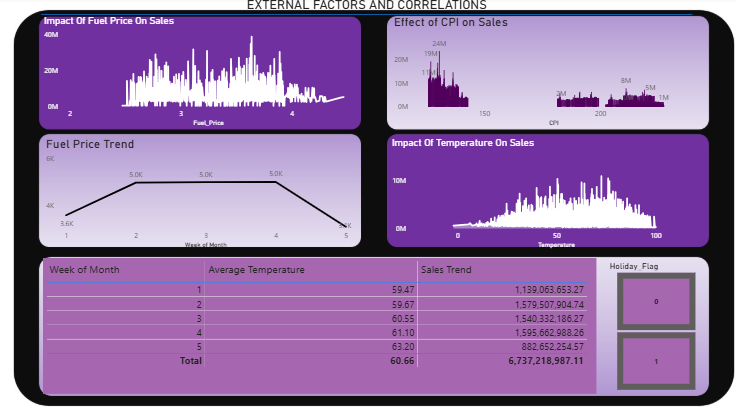

The dashboard page shown, as its layout file describes it:
{"tool":"powerbi","page":{"name":"Page 2","canvas":[1280,720],"ordinal":1},"visuals":[{"type":"shape","title":"EXTERNAL FACTORS AND CORRELATIONS","box":[76.6,0,1103.1,30.4],"z":0},{"type":"lineChart","title":"Impact Of Fuel Price On Sales","fields":{"Category":["Walmart_cleaned.Fuel_Price"],"Y":["Sum(Walmart_cleaned.Weekly_Sales)"]},"box":[76.6,30.4,533.5,193.7],"z":1000},{"type":"clusteredColumnChart","title":"Effect of CPI on Sales","fields":{"Y":["Sum(Walmart_cleaned.Weekly_Sales)"],"Category":["Walmart_cleaned.CPI"]},"box":[668,30.4,527.7,193.7],"z":2000},{"type":"lineChart","title":"Fuel Price Trend","fields":{"Category":["Walmart_cleaned.Week of Month"],"Y":["Sum(Walmart_cleaned.Fuel_Price)"]},"box":[79.5,237.1,527.7,193.7],"z":3000},{"type":"areaChart","title":"Impact Of Temperature On Sales","fields":{"Category":["Walmart_cleaned.Temperature"],"Y":["Sum(Walmart_cleaned.Weekly_Sales)"]},"box":[665.1,237.1,533.5,193.7],"z":4000},{"type":"tableEx","fields":{"Values":["Walmart_cleaned.Week of Month","Avg(Walmart_cleaned.Temperature)","Sum(Walmart_cleaned.Weekly_Sales)"]},"box":[79.5,442.4,936.9,229.9],"z":5000},{"type":"slicer","fields":{"Values":["Walmart_cleaned.Holiday_Flag"]},"box":[1026.5,442.4,182.2,229.9],"z":6000}]}

Visuals, with their boxes in screenshot pixels (x1, y1, x2, y2), scaled from the page's 1280x720 canvas onto the 736x410 screenshot:
"EXTERNAL FACTORS AND CORRELATIONS" shape: (44,0,678,17)
"Impact Of Fuel Price On Sales" lineChart: (44,17,351,128)
"Effect of CPI on Sales" clusteredColumnChart: (384,17,688,128)
"Fuel Price Trend" lineChart: (46,135,349,245)
"Impact Of Temperature On Sales" areaChart: (382,135,689,245)
tableEx - Walmart_cleaned.Week of Month x Avg(Walmart_cleaned.Temperature): (46,252,584,383)
slicer - Walmart_cleaned.Holiday_Flag: (590,252,695,383)
